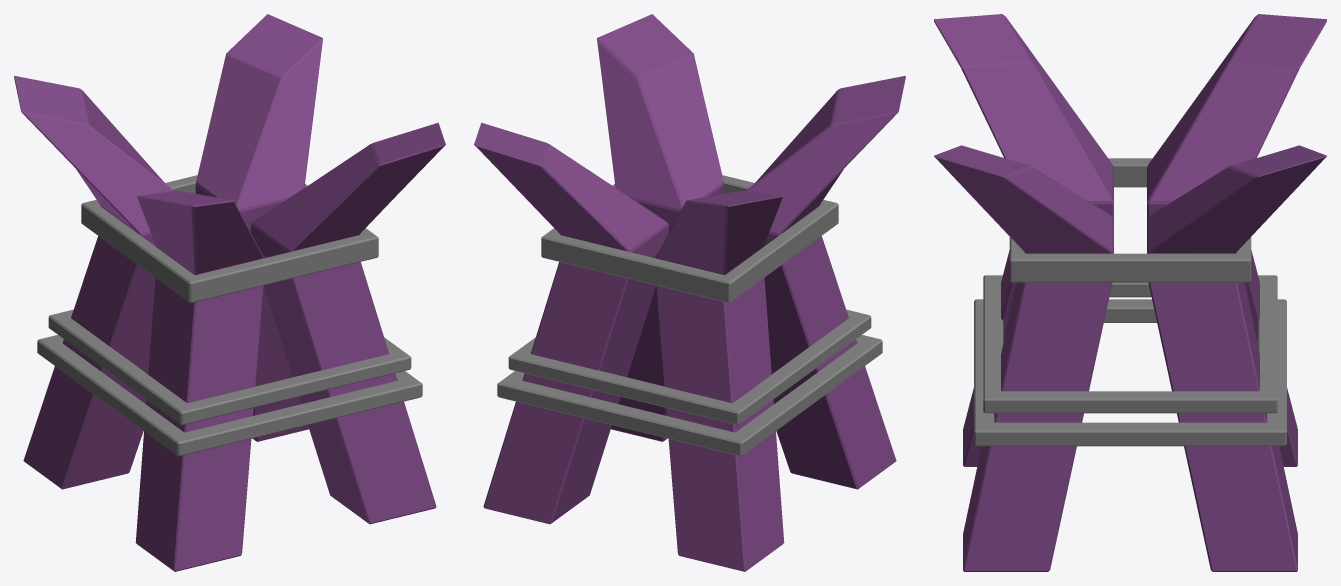
Rendered from pedestal.fbx.
3 renders of one model, left to right at view 1: azimuth 30°, elevation 25°; view 2: azimuth 150°, elevation 25°; view 3: azimuth 270°, elevation 25°, orthographic. The views are drawn at different scales.
Parts seen in each view (by area): view 1: Cube; view 2: Cube; view 3: Cube.
Boxes of the visible parts, x1,y1,x2,y2 form: Cube: [14, 14, 445, 571]; Cube: [474, 14, 905, 571]; Cube: [934, 14, 1326, 571].
Size of the model in its own units: 155 by 184 by 158.
